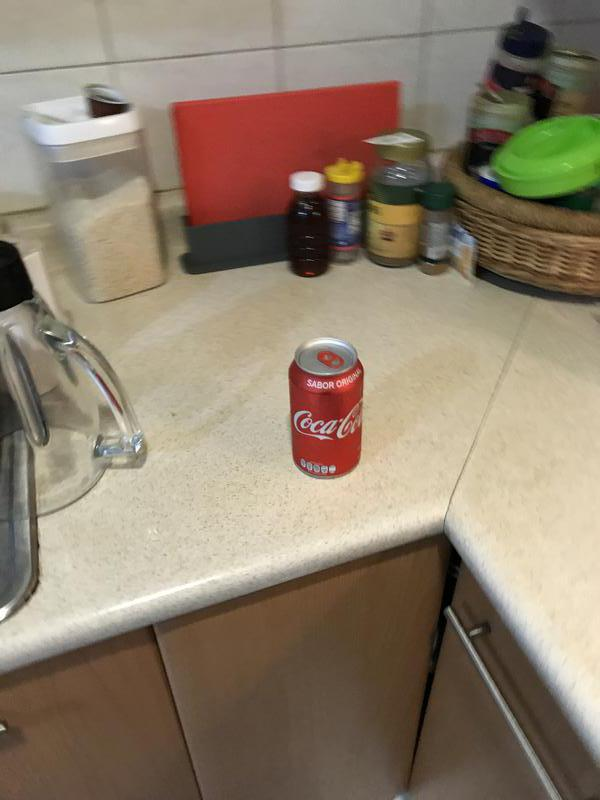coca_cola: (289, 338, 366, 480)
